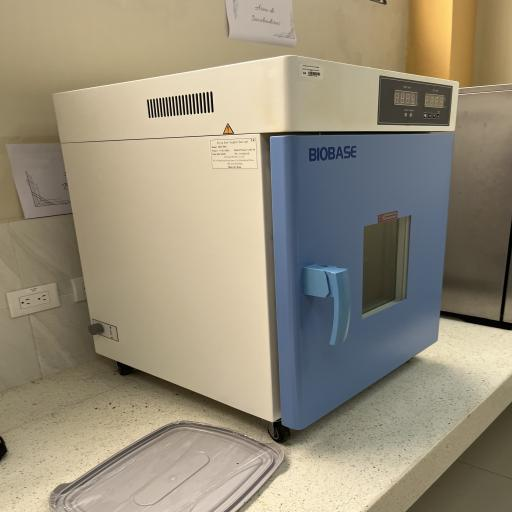Horno_Secado_Biobase: (36, 49, 475, 454)
